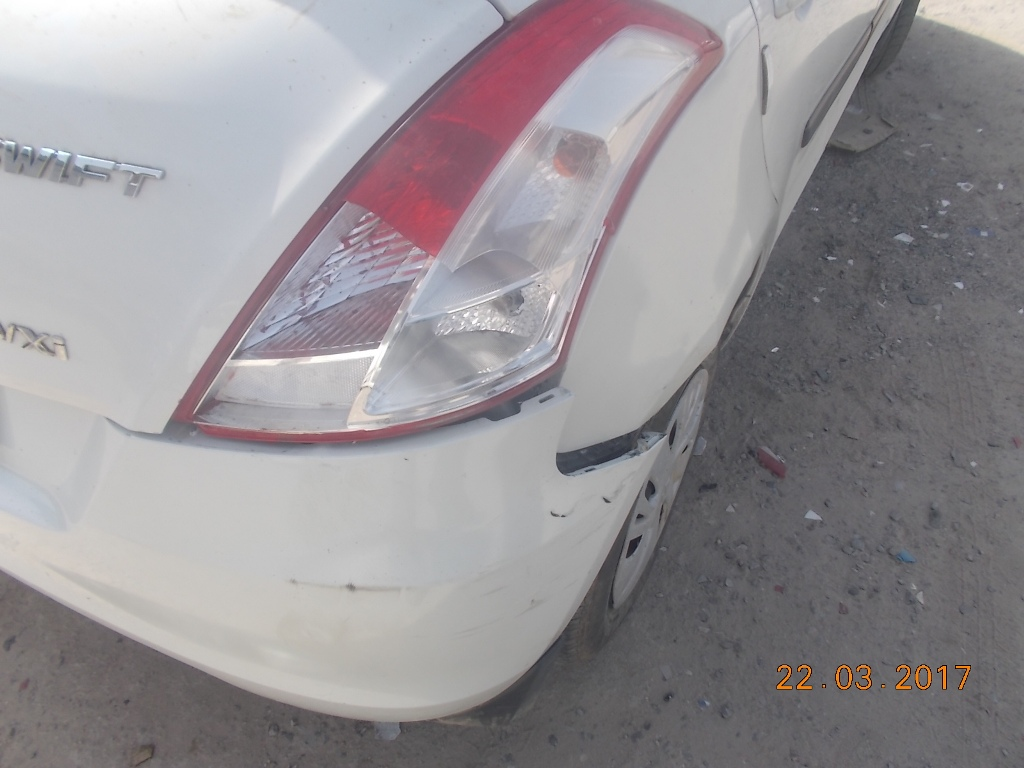Dislocation: (548, 396, 690, 482)
